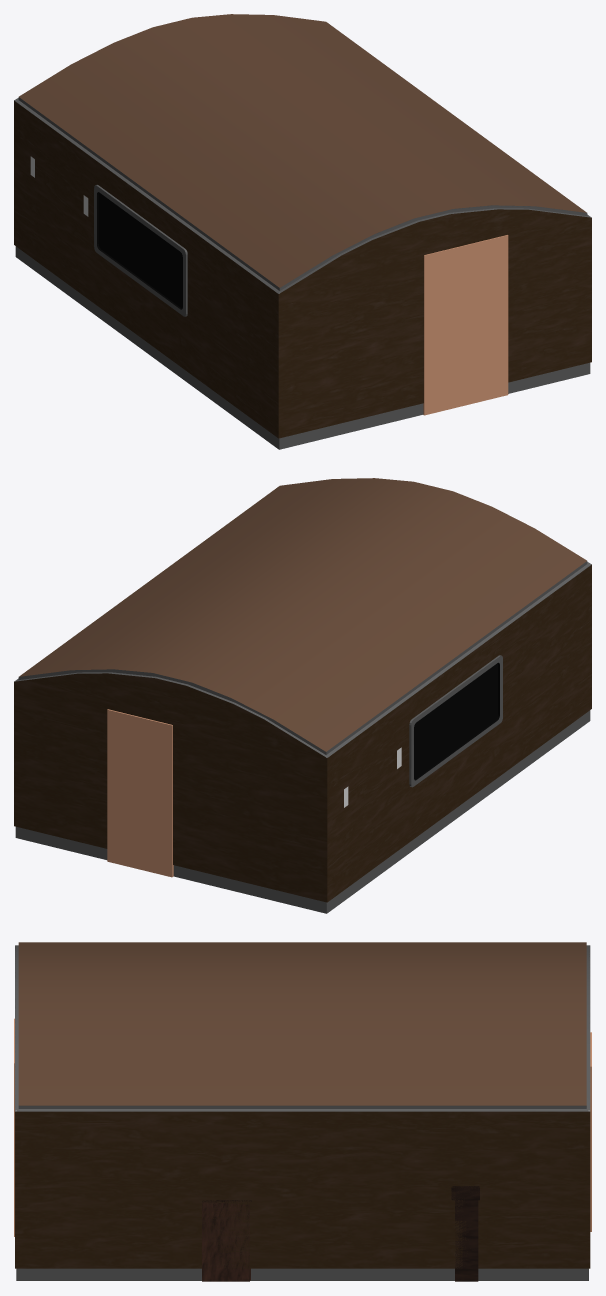
The model's file is GreyBox_For_Textures.fbx.
3 renders of one model, top to bottom at view 1: azimuth 30°, elevation 25°; view 2: azimuth 150°, elevation 25°; view 3: azimuth 270°, elevation 25°, orthographic. The views are drawn at different scales.
Visible parts, largest first — view 1: Vagon, LightDoor(Right); view 2: Vagon, LightDoor(Right).001; view 3: Vagon, StandForTitan, MasterTable.
Part boxes in pixels (bbox=[...]): Vagon: bbox=[14, 14, 591, 449]; LightDoor(Right): bbox=[423, 235, 508, 415]; Vagon: bbox=[14, 478, 591, 913]; LightDoor(Right).001: bbox=[107, 709, 173, 877]; Vagon: bbox=[15, 942, 590, 1280]; StandForTitan: bbox=[202, 1200, 251, 1281]; MasterTable: bbox=[451, 1186, 479, 1281].
Bounding box in the file's own units: 412 × 247 × 603.
